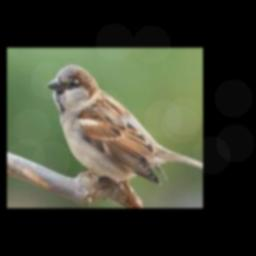Sparrow: (47, 65, 203, 186)
